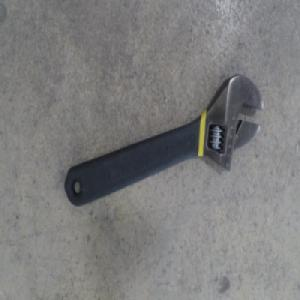AdjustableWrench: (64, 75, 263, 209)
